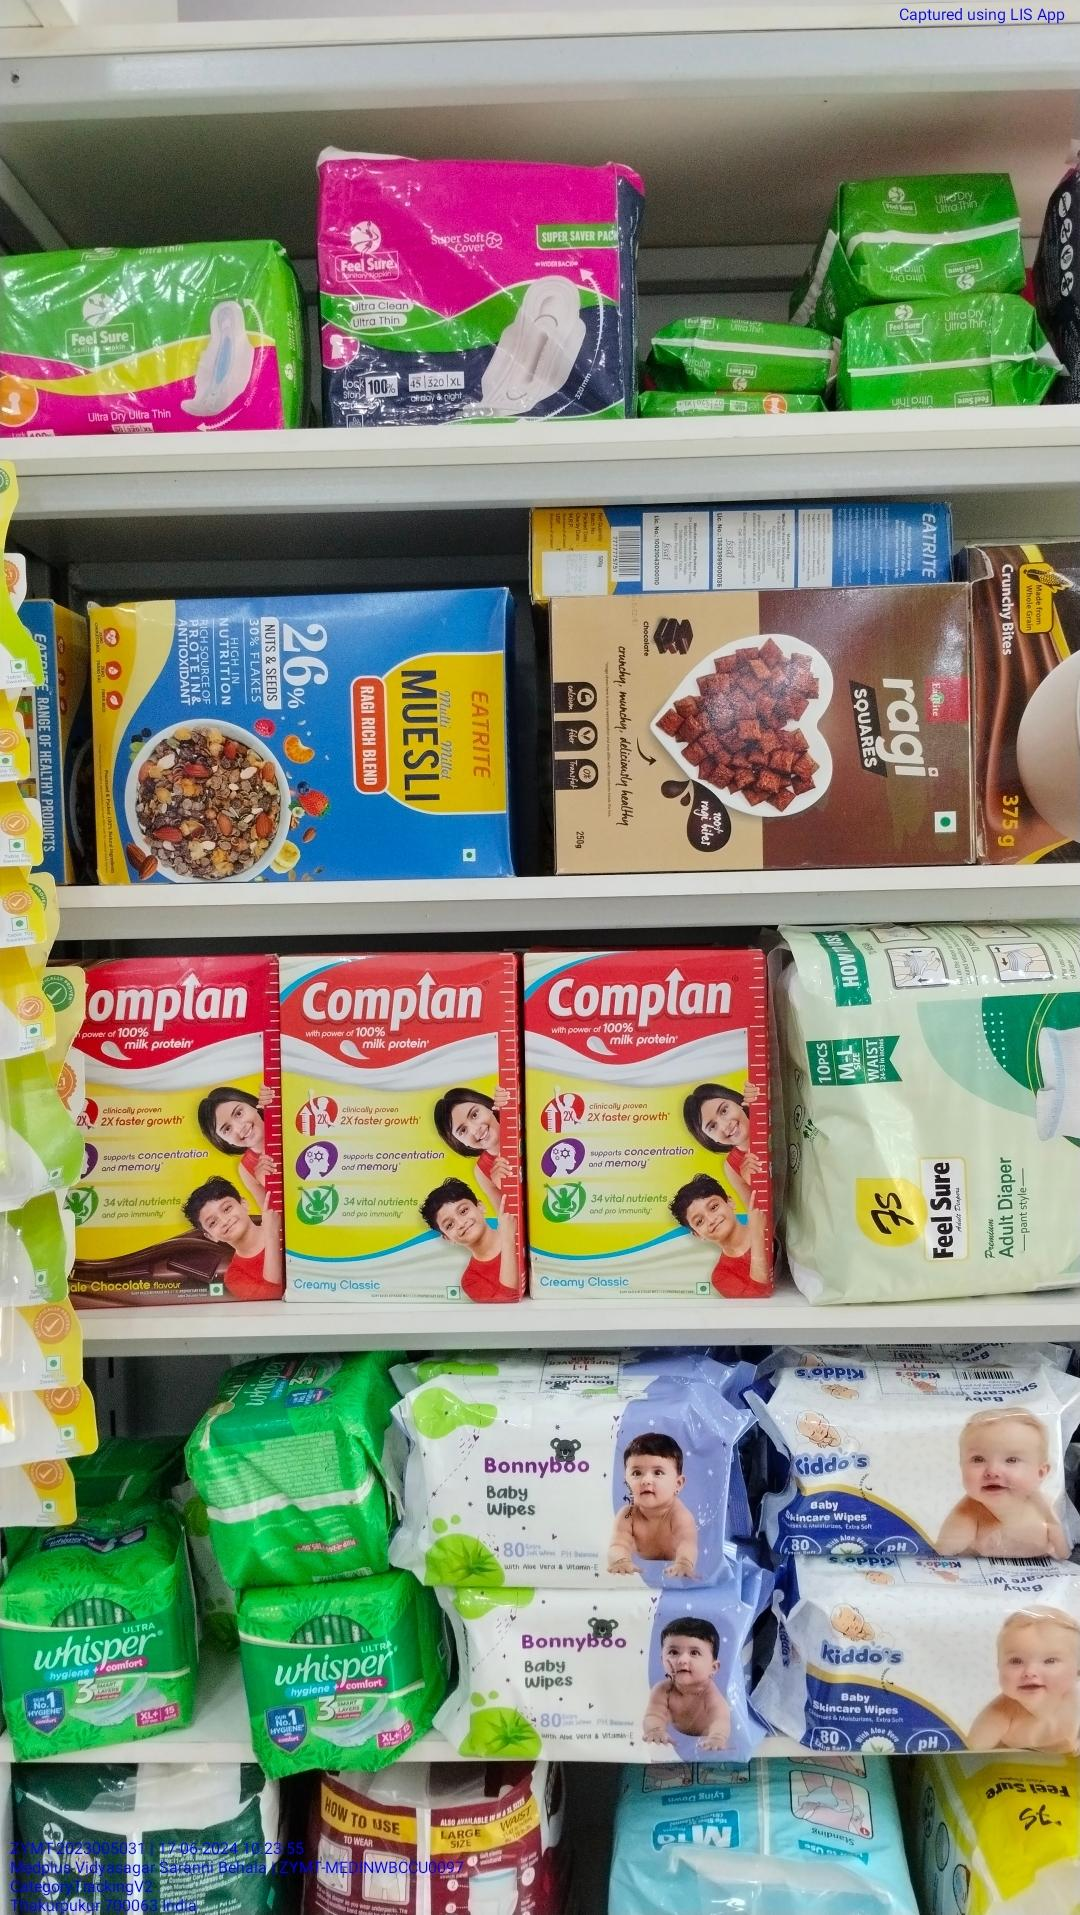COMPLAN_CHOCOLATE_500_GMS_PACK: (84, 963, 270, 1294)
COMPLAN_CREAMY_CLASSIC_500_G_PACK: (528, 952, 767, 1297), (278, 969, 521, 1293)
